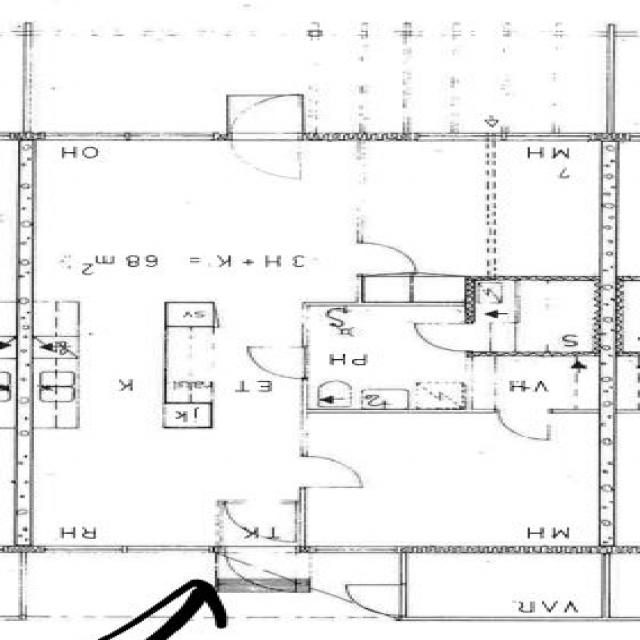door: (226, 546, 296, 592), (231, 133, 298, 178), (231, 96, 298, 140), (226, 501, 296, 543), (243, 346, 307, 379), (344, 584, 406, 616), (300, 456, 362, 487), (357, 243, 418, 274), (416, 323, 474, 351), (498, 409, 546, 441)
